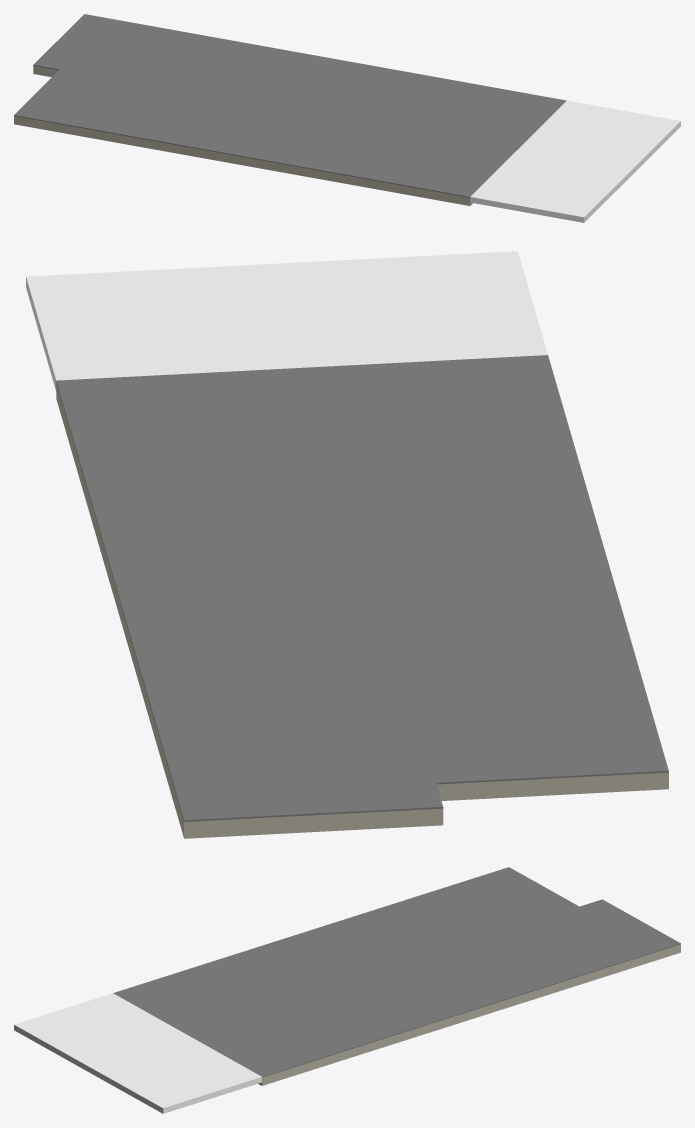
The model's file is rac_basic_sample_project_Level_1_Living_Rm_IfcSlab.dae.
3 views of the same model, one above another, from view 1: azimuth 30°, elevation 25°; view 2: azimuth 150°, elevation 25°; view 3: azimuth 270°, elevation 25° (orthographic). The views are drawn at different scales.
Visible parts, largest first — view 1: 0PSFPzOkvFnf082fy0SVrB, 1UXnAYut94jfvp2gf33Js1; view 2: 0PSFPzOkvFnf082fy0SVrB, 1UXnAYut94jfvp2gf33Js1; view 3: 0PSFPzOkvFnf082fy0SVrB, 1UXnAYut94jfvp2gf33Js1.
Part boxes in pixels (x1,y1,x2,y2): 0PSFPzOkvFnf082fy0SVrB: (14,14,566,205); 1UXnAYut94jfvp2gf33Js1: (470,100,680,222); 0PSFPzOkvFnf082fy0SVrB: (56,355,668,838); 1UXnAYut94jfvp2gf33Js1: (26,251,547,390); 0PSFPzOkvFnf082fy0SVrB: (113,867,680,1085); 1UXnAYut94jfvp2gf33Js1: (14,993,261,1113).
Size of the model in its own units: 13.82 by 16.15 by 0.247.
